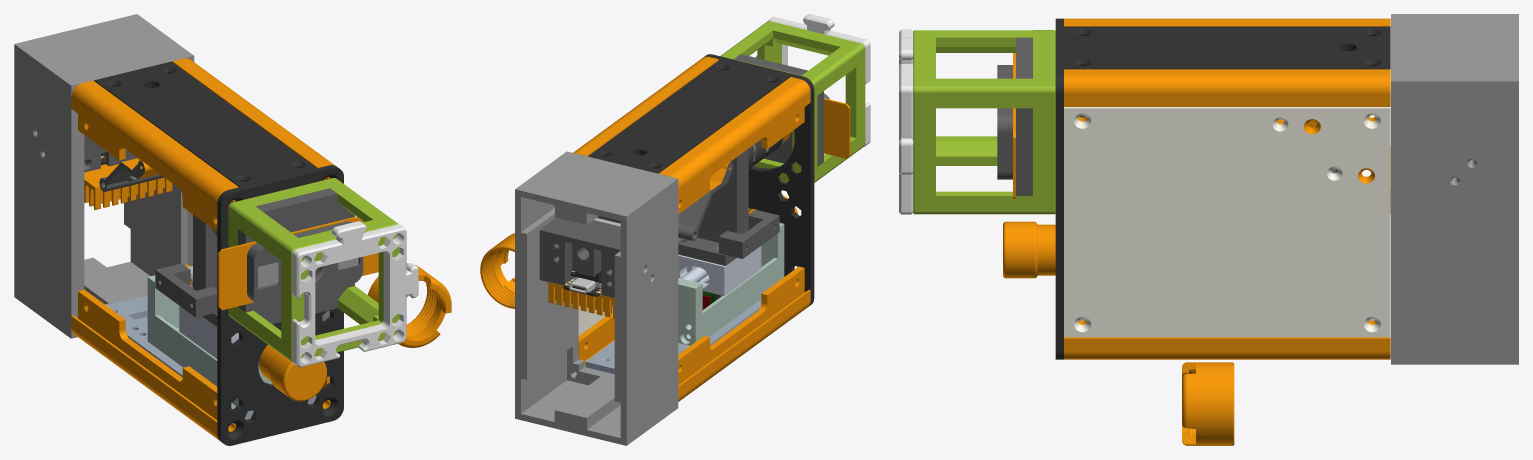
File: no_mirror_no_tube_lens.fbx
The picture shows the model from 3 angles, left to right: view 1: azimuth 30°, elevation 25°; view 2: azimuth 150°, elevation 25°; view 3: azimuth 270°, elevation 25°; orthographic projection. The views are drawn at different scales.
Visible parts, largest first — view 1: extender, top_plate, Solid26, Solid32, Solid24, Solid36, Solid30, Solid33, Solid31, Solid5, Solid34, Solid38 (+11 smaller); view 2: extender, Solid26, top_plate, Solid24, Solid36, Solid30, Solid5, Solid13, Solid46, Solid31, Solid3, Solid38 (+12 smaller); view 3: Solid23, extender, Solid26, Solid38, Solid31, Solid30, Solid37, Solid49, top_plate, Solid6, Solid24, Solid32 (+2 smaller).
Boxes of the visible parts, x1=… form: extender: x1=14, y1=14, x2=194, y2=338; top_plate: x1=217, y1=165, x2=343, y2=445; Solid26: x1=94, y1=61, x2=316, y2=187; Solid32: x1=292, y1=221, x2=418, y2=367; Solid24: x1=71, y1=80, x2=238, y2=231; Solid36: x1=71, y1=289, x2=235, y2=440; Solid30: x1=238, y1=206, x2=399, y2=361; Solid33: x1=238, y1=188, x2=354, y2=324; Solid31: x1=228, y1=178, x2=387, y2=354; Solid5: x1=147, y1=266, x2=272, y2=411; Solid34: x1=247, y1=221, x2=363, y2=305; Solid38: x1=172, y1=58, x2=335, y2=179; extender: x1=515, y1=151, x2=678, y2=445; Solid26: x1=588, y1=59, x2=789, y2=173; top_plate: x1=704, y1=54, x2=814, y2=306; Solid24: x1=659, y1=77, x2=810, y2=214; Solid36: x1=678, y1=266, x2=810, y2=401; Solid30: x1=757, y1=21, x2=865, y2=152; Solid5: x1=678, y1=223, x2=784, y2=345; Solid13: x1=539, y1=217, x2=620, y2=297; Solid46: x1=678, y1=149, x2=748, y2=265; Solid31: x1=720, y1=27, x2=856, y2=182; Solid3: x1=678, y1=246, x2=761, y2=295; Solid38: x1=573, y1=56, x2=718, y2=156; Solid23: x1=1064, y1=107, x2=1390, y2=337; extender: x1=1391, y1=14, x2=1518, y2=364; Solid26: x1=1064, y1=26, x2=1390, y2=69; Solid38: x1=1064, y1=69, x2=1390, y2=127; Solid31: x1=936, y1=30, x2=1055, y2=214; Solid30: x1=913, y1=30, x2=1032, y2=214; Solid37: x1=1064, y1=320, x2=1390, y2=359; Solid49: x1=1182, y1=362, x2=1234, y2=445; top_plate: x1=1055, y1=18, x2=1063, y2=359; Solid6: x1=1003, y1=221, x2=1055, y2=278; Solid24: x1=1064, y1=18, x2=1390, y2=26; Solid32: x1=899, y1=29, x2=913, y2=214.
Size of the model in its own units: 14.11 by 11.34 by 21.82.
